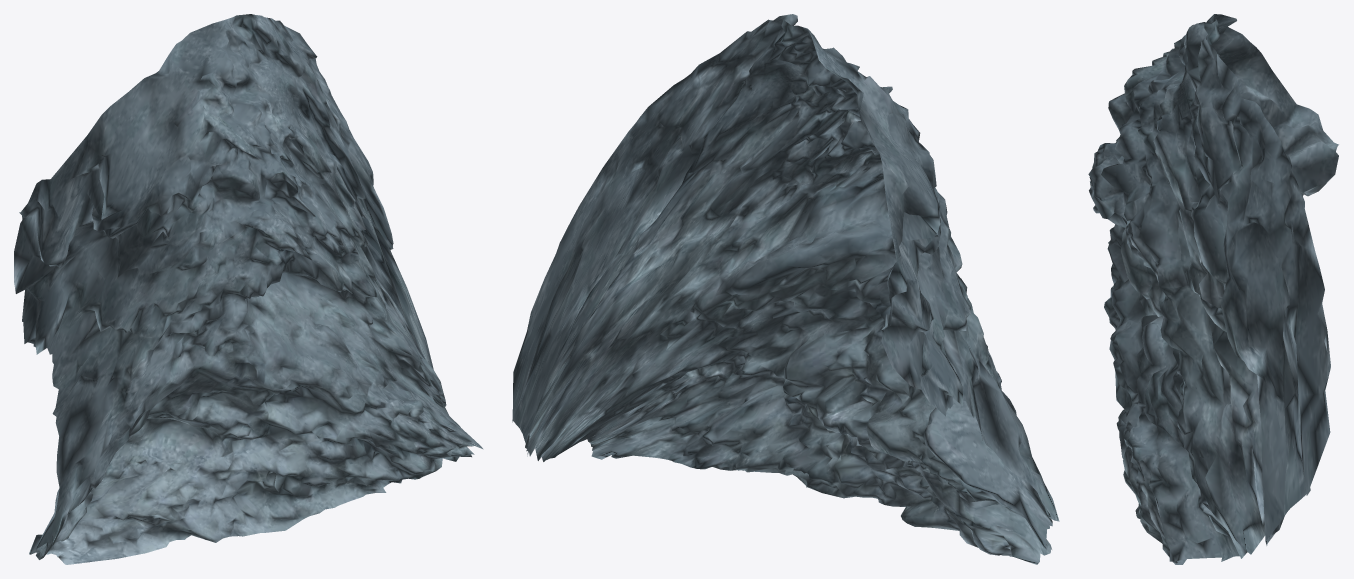
The model's file is relief-montagne.lod0.glb.
3 renders of one model, left to right at view 1: azimuth 30°, elevation 25°; view 2: azimuth 150°, elevation 25°; view 3: azimuth 270°, elevation 25°, orthographic. The views are drawn at different scales.
Visible parts, largest first — view 1: mountainside; view 2: mountainside; view 3: mountainside.
Boxes of the visible parts, bbox=[...] form: mountainside: bbox=[14, 14, 483, 564]; mountainside: bbox=[512, 14, 1059, 564]; mountainside: bbox=[1088, 14, 1338, 564].
Size of the model in its own units: 252 by 260 by 130.
1 material, 1 textured.
